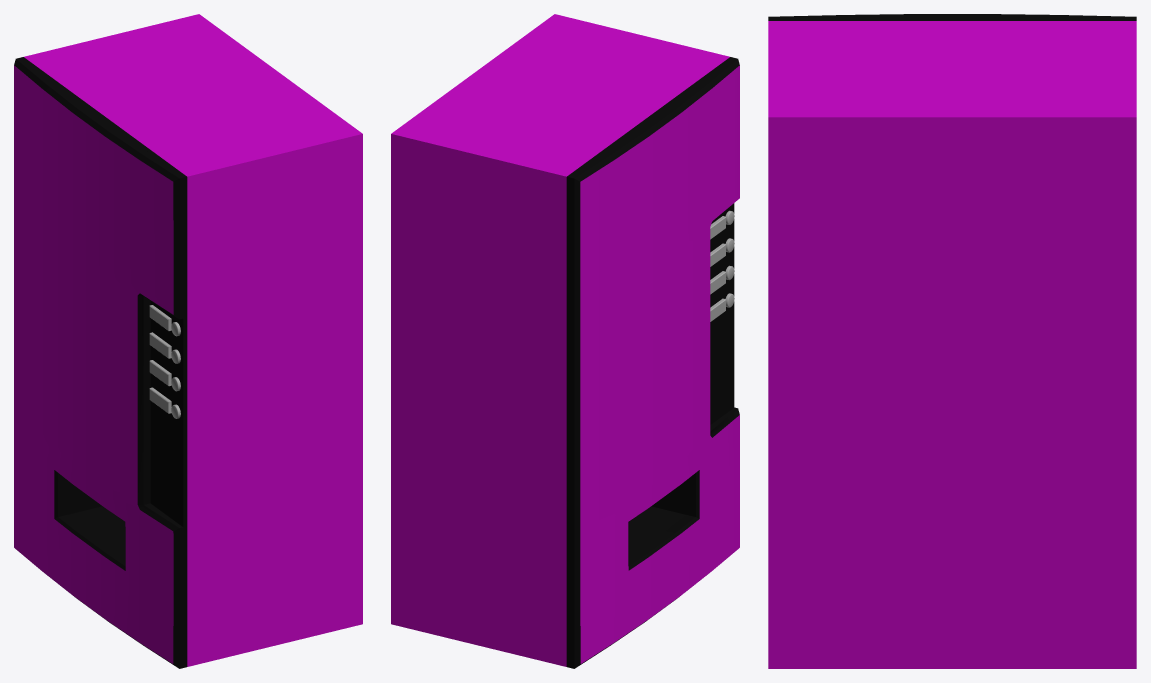
The model's file is WW_VendingMachine_prop_01.fbx.
The picture shows the model from 3 angles, left to right: view 1: azimuth 30°, elevation 25°; view 2: azimuth 150°, elevation 25°; view 3: azimuth 270°, elevation 25°; orthographic projection. The views are drawn at different scales.
Parts seen in each view (by area): view 1: VendingMachineBase, VendingMachineface; view 2: VendingMachineBase, VendingMachineface; view 3: VendingMachineBase, VendingMachineface.
Boxes of the visible parts, box(x1,y1,x2,y2) form: VendingMachineBase: box(20, 14, 362, 667); VendingMachineface: box(14, 58, 183, 668); VendingMachineBase: box(391, 14, 734, 667); VendingMachineface: box(570, 58, 739, 668); VendingMachineBase: box(768, 18, 1136, 668); VendingMachineface: box(768, 14, 1136, 18).
Size of the model in its own units: 110 by 267 by 162.
